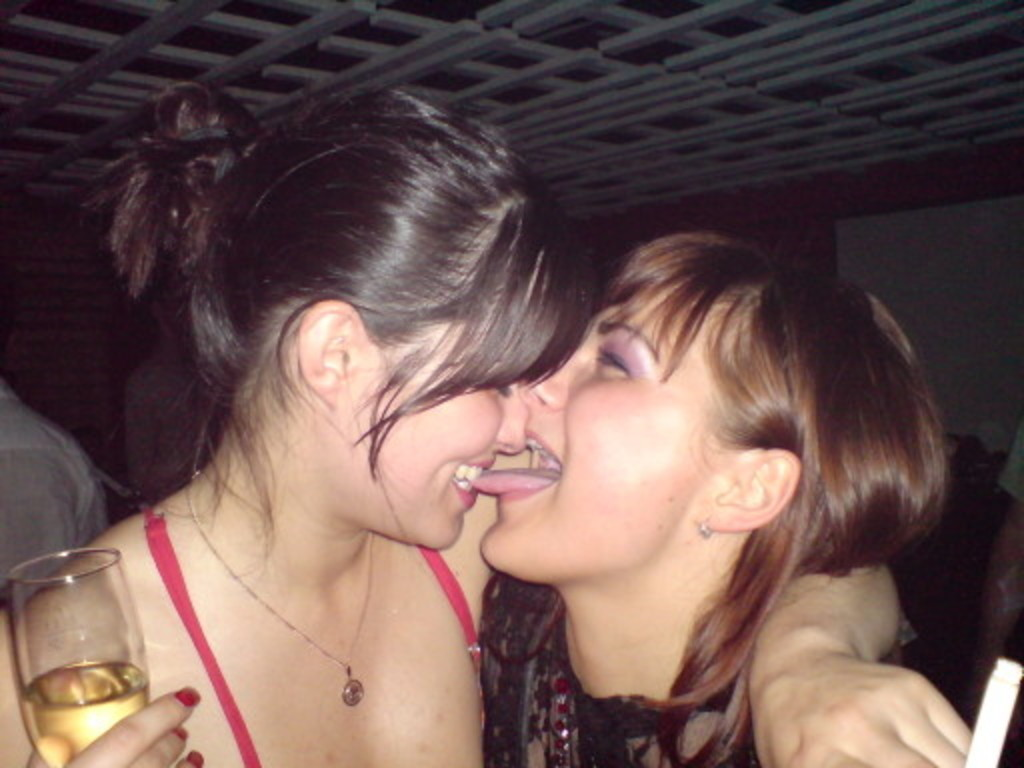Human_hand: (751, 650, 974, 766), (27, 685, 203, 765)
